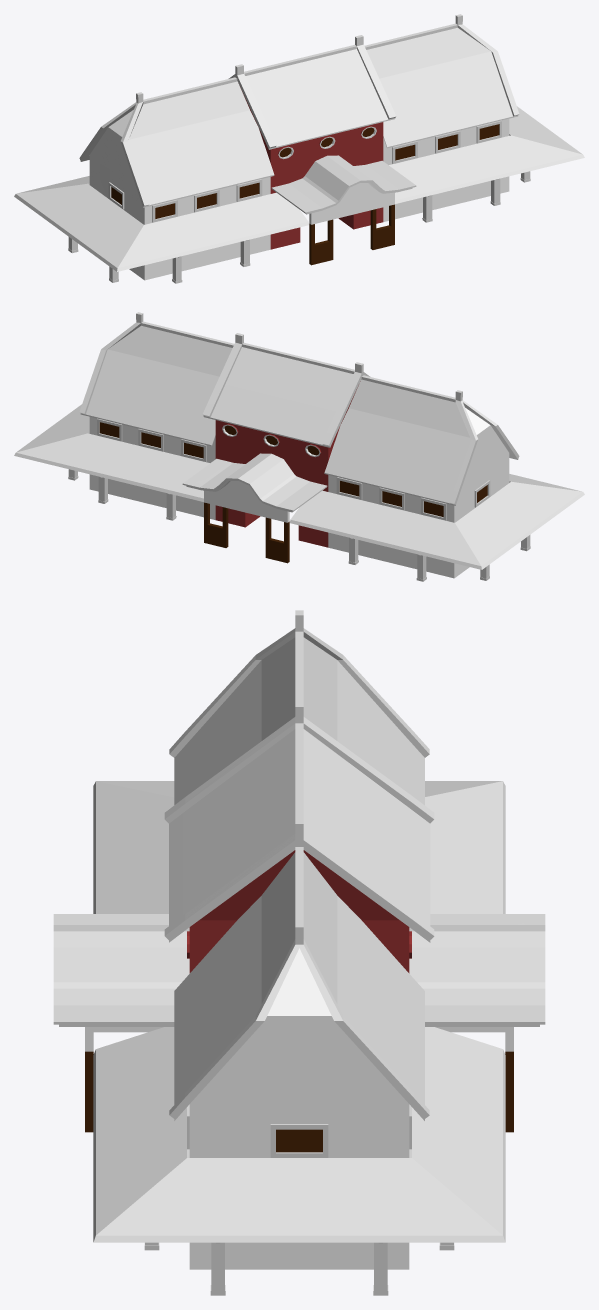
Rendered from Changhua.fbx.
3 renders of one model, top to bottom at view 1: azimuth 30°, elevation 25°; view 2: azimuth 150°, elevation 25°; view 3: azimuth 270°, elevation 25°, orthographic. The views are drawn at different scales.
Parts seen in each view (by area): view 1: Cube.005; view 2: Cube.005; view 3: Cube.005.
Boxes of the visible parts, x1,y1,x2,y2 form: Cube.005: [14, 14, 584, 283]; Cube.005: [14, 312, 584, 581]; Cube.005: [53, 610, 545, 1295].
Bounding box in the file's own units: 2068 × 696 × 941.
